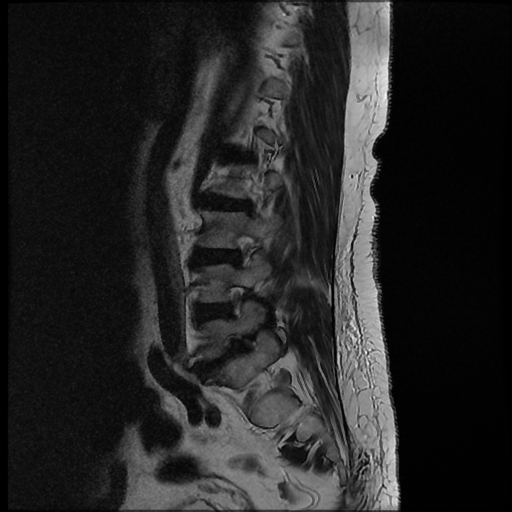RFS1: (213, 278, 255, 324)
